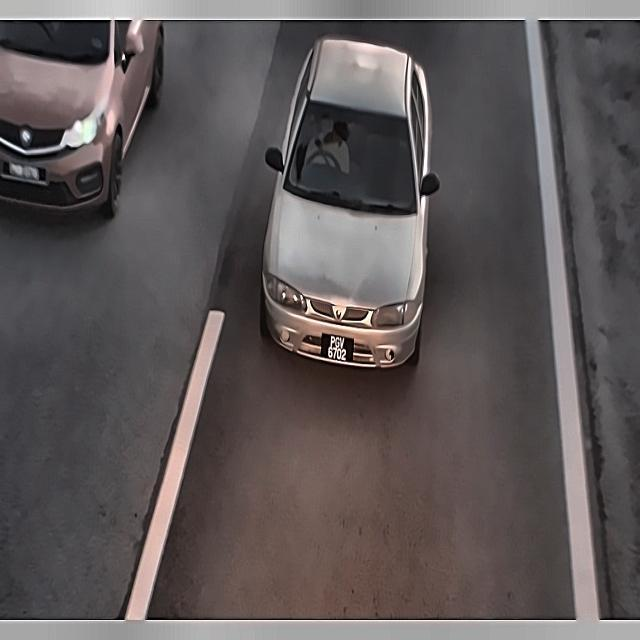car: (0, 143, 54, 196), (314, 327, 364, 370)
